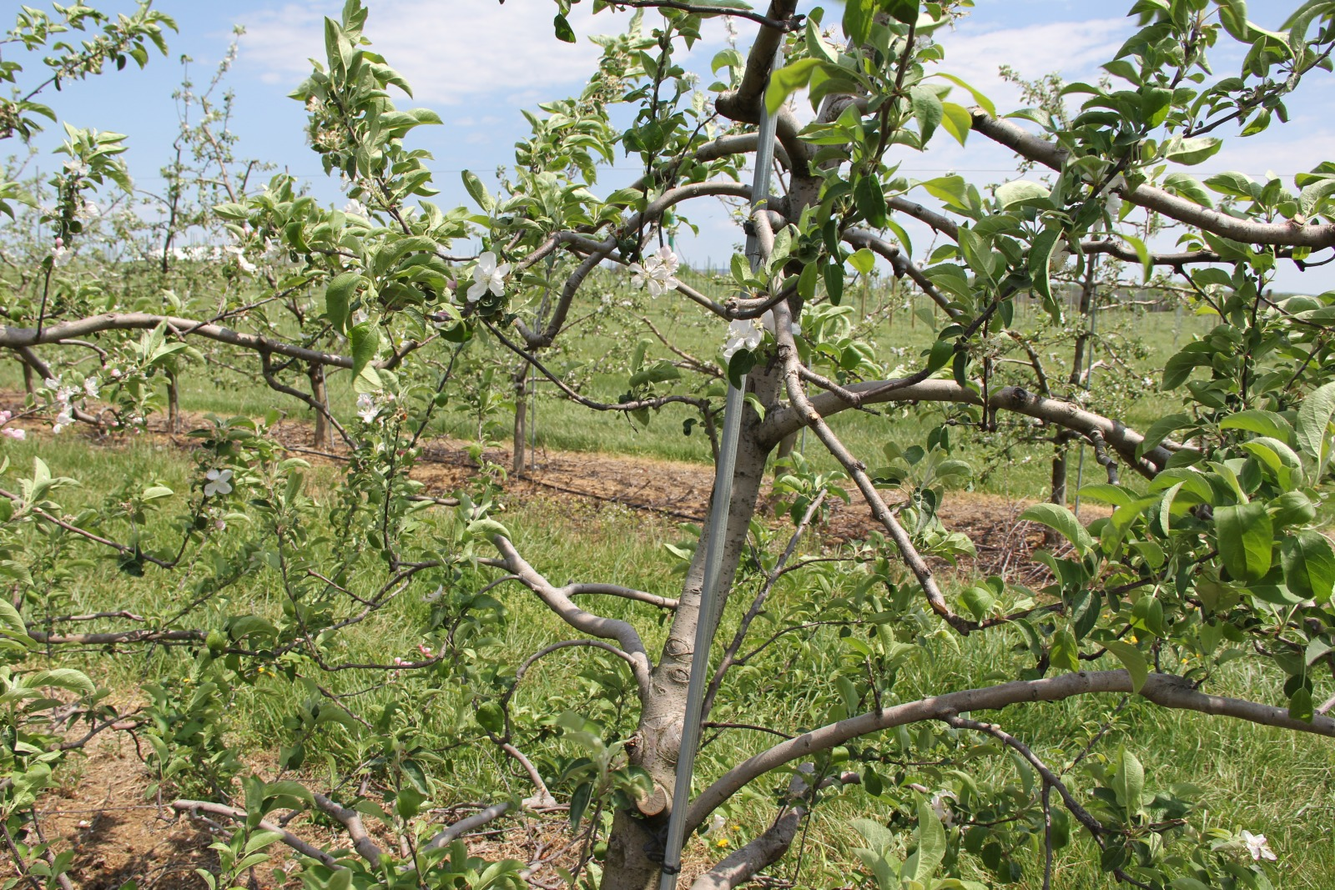flower: (720, 309, 776, 365), (628, 244, 680, 299), (467, 252, 511, 303), (53, 386, 77, 435), (224, 245, 259, 275), (1242, 831, 1277, 861), (204, 470, 234, 498), (345, 190, 372, 220), (356, 394, 383, 424), (51, 246, 77, 268), (258, 237, 281, 261), (63, 159, 92, 176), (83, 201, 101, 228), (84, 377, 101, 399), (340, 173, 352, 193)
